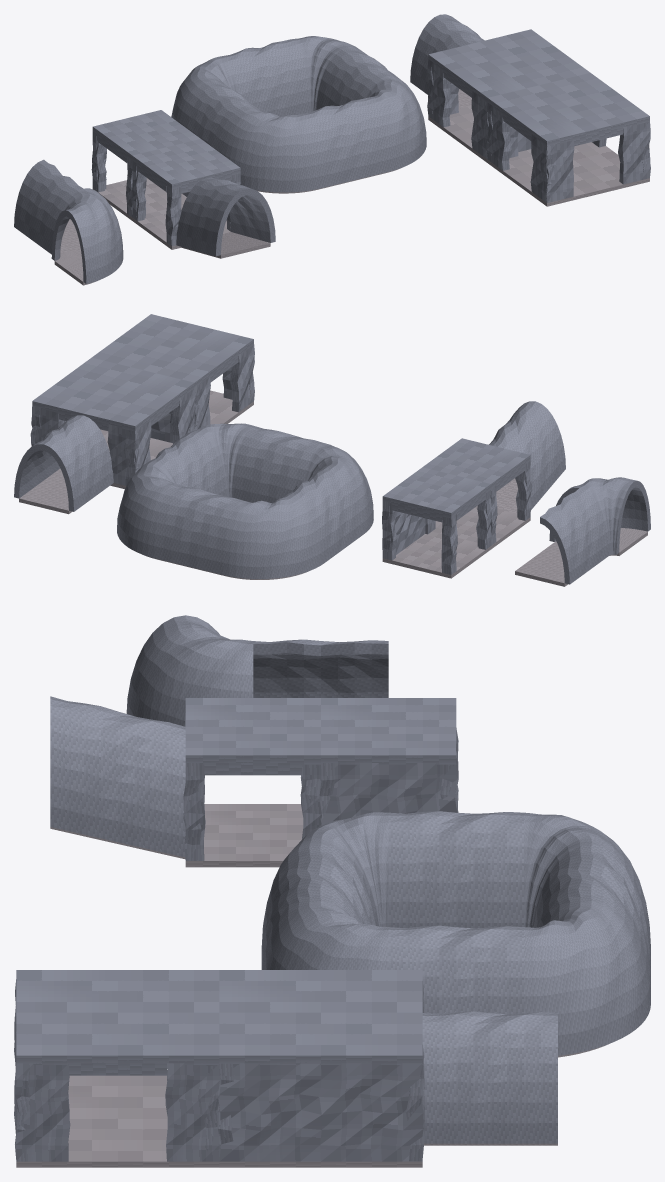
Rendered from cave-and-crystal-networks-tunnel-network-5fd6f8ea-starter-scene.glb.
3 renders of one model, top to bottom at view 1: azimuth 30°, elevation 25°; view 2: azimuth 150°, elevation 25°; view 3: azimuth 270°, elevation 25°, orthographic. The views are drawn at different scales.
Parts seen in each view (by area): view 1: 012-small-chamber/13, 000-tunnel-bend-right/0, 011-tunnel-to-chamber/11, 007-tunnel-straight/0, 010-tunnel-slope-up/0, 003-tunnel-straight/0, 014-tunnel-bend-left/0, 013-tunnel-cutaway/0, 012-small-chamber/0, 006-tunnel-bend-right/0, 009-tunnel-cross/13, 001-tunnel-straight/0 (+21 smaller); view 2: 002-tunnel-bend-right/0, 011-tunnel-to-chamber/11, 012-small-chamber/13, 011-tunnel-to-chamber/0, 003-tunnel-straight/0, 007-tunnel-straight/0, 013-tunnel-cutaway/0, 010-tunnel-slope-up/0, 001-tunnel-straight/0, 004-tunnel-bend-right/0, 008-tunnel-t-junction/11, 014-tunnel-bend-left/0 (+25 smaller); view 3: 011-tunnel-to-chamber/11, 012-small-chamber/13, 011-tunnel-to-chamber/10, 010-tunnel-slope-up/0, 011-tunnel-to-chamber/0, 001-tunnel-straight/0, 004-tunnel-bend-right/0, 005-tunnel-straight/0, 012-small-chamber/0, 014-tunnel-bend-left/0, 008-tunnel-t-junction/11, 009-tunnel-cross/13 (+18 smaller).
Boxes of the visible parts, <box> form: 012-small-chamber/13: <box>487,73,649,146</box>; 000-tunnel-bend-right/0: <box>222,109,320,192</box>; 011-tunnel-to-chamber/11: <box>428,29,590,102</box>; 007-tunnel-straight/0: <box>301,97,389,188</box>; 010-tunnel-slope-up/0: <box>176,177,275,256</box>; 003-tunnel-straight/0: <box>222,39,310,116</box>; 014-tunnel-bend-left/0: <box>51,188,123,283</box>; 013-tunnel-cutaway/0: <box>14,159,82,254</box>; 012-small-chamber/0: <box>487,142,649,206</box>; 006-tunnel-bend-right/0: <box>366,75,426,171</box>; 009-tunnel-cross/13: <box>132,139,240,189</box>; 001-tunnel-straight/0: <box>182,80,260,153</box>; 002-tunnel-bend-right/0: <box>222,495,324,578</box>; 011-tunnel-to-chamber/11: <box>32,357,194,431</box>; 012-small-chamber/13: <box>92,314,253,386</box>; 011-tunnel-to-chamber/0: <box>14,415,113,511</box>; 003-tunnel-straight/0: <box>154,484,242,574</box>; 007-tunnel-straight/0: <box>233,426,322,502</box>; 013-tunnel-cutaway/0: <box>540,488,609,584</box>; 010-tunnel-slope-up/0: <box>489,401,565,509</box>; 001-tunnel-straight/0: <box>282,466,363,562</box>; 004-tunnel-bend-right/0: <box>117,462,177,557</box>; 008-tunnel-t-junction/11: <box>382,467,490,518</box>; 014-tunnel-bend-left/0: <box>549,477,650,554</box>; 011-tunnel-to-chamber/11: <box>219,970,422,1064</box>; 012-small-chamber/13: <box>16,970,219,1064</box>; 011-tunnel-to-chamber/10: <box>218,1063,423,1161</box>; 010-tunnel-slope-up/0: <box>50,696,185,857</box>; 011-tunnel-to-chamber/0: <box>422,1011,557,1143</box>; 001-tunnel-straight/0: <box>388,811,523,928</box>; 004-tunnel-bend-right/0: <box>524,901,650,1055</box>; 005-tunnel-straight/0: <box>388,925,523,1013</box>; 012-small-chamber/0: <box>16,1075,219,1167</box>; 014-tunnel-bend-left/0: <box>126,615,253,726</box>; 008-tunnel-t-junction/11: <box>321,698,456,764</box>; 009-tunnel-cross/13: <box>185,698,320,764</box>.
Size of the model in its own units: 31.09 by 4.55 by 18.82.
2 materials, 2 textured.
